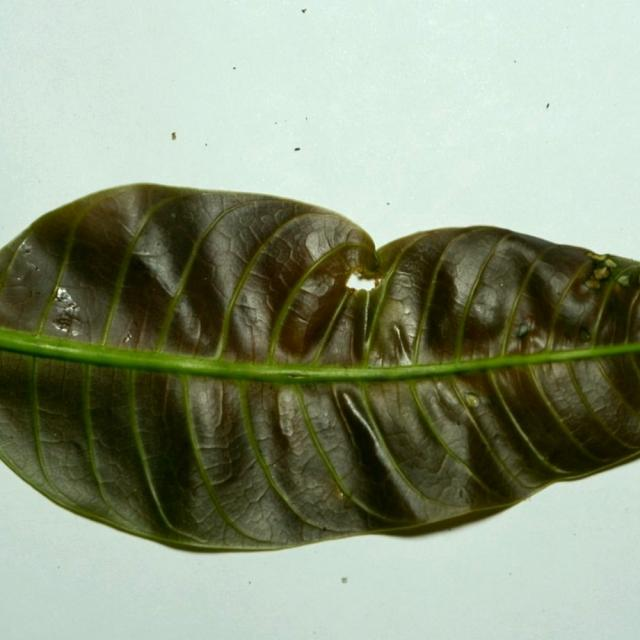Anthracnose: (345, 268, 386, 298), (464, 391, 481, 408)
Mango: (0, 184, 639, 556)
